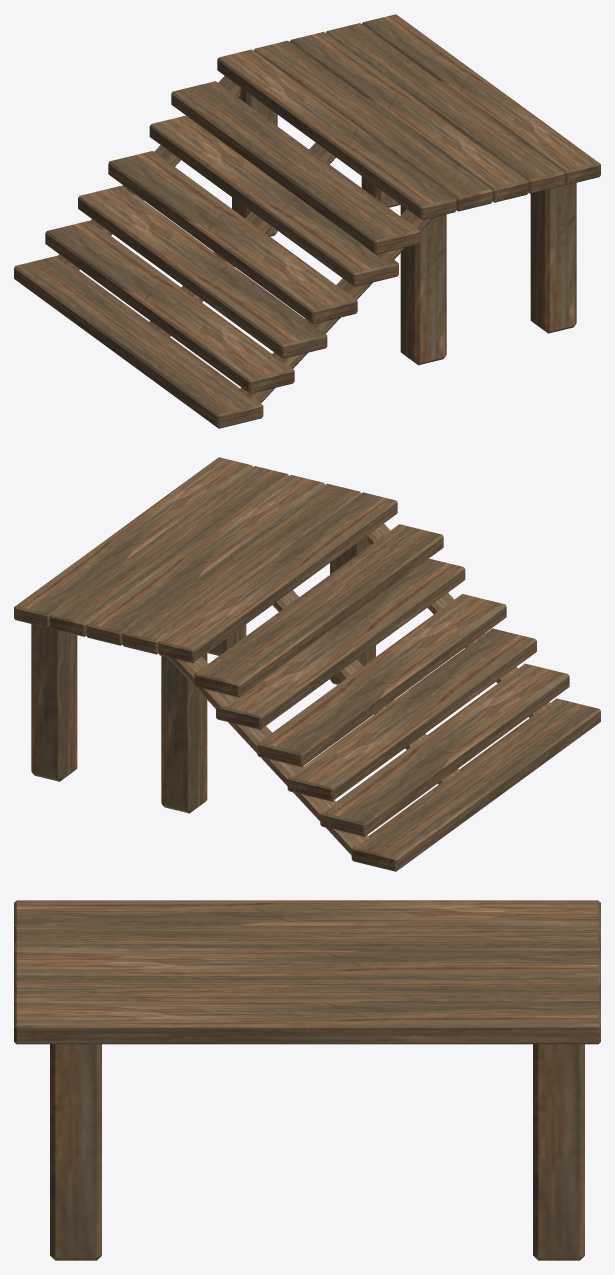
Rendered from SM_stairs_01.fbx.
3 views of the same model, one above another, from view 1: azimuth 30°, elevation 25°; view 2: azimuth 150°, elevation 25°; view 3: azimuth 270°, elevation 25° (orthographic). The views are drawn at different scales.
Parts seen in each view (by area): view 1: SM_stairs_01_LOD0; view 2: SM_stairs_01_LOD0; view 3: SM_stairs_01_LOD0.
Boxes of the visible parts, x1,y1,x2,y2 form: SM_stairs_01_LOD0: (14, 14, 600, 428); SM_stairs_01_LOD0: (14, 457, 600, 871); SM_stairs_01_LOD0: (14, 900, 600, 1260).
Size of the model in its own units: 243 by 225 by 105.
1 material, 1 textured.
